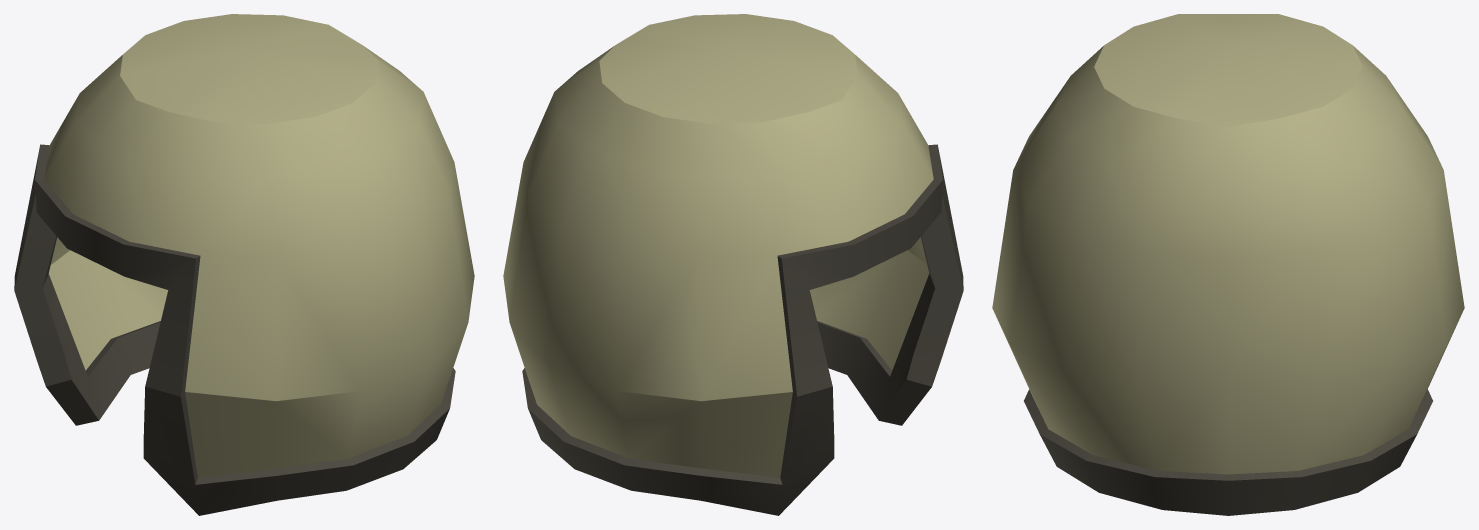
File: Helmet04.fbx
The picture shows the model from 3 angles, left to right: view 1: azimuth 30°, elevation 25°; view 2: azimuth 150°, elevation 25°; view 3: azimuth 270°, elevation 25°; orthographic projection. The views are drawn at different scales.
Visible parts, largest first — view 1: Helmet04; view 2: Helmet04; view 3: Helmet04.
Part boxes in pixels (x1=…): Helmet04: x1=14, y1=14, x2=474, y2=515; Helmet04: x1=503, y1=14, x2=963, y2=515; Helmet04: x1=992, y1=14, x2=1464, y2=515.
Bounding box in the file's own units: 0.9716 × 1.04 × 0.9831.
